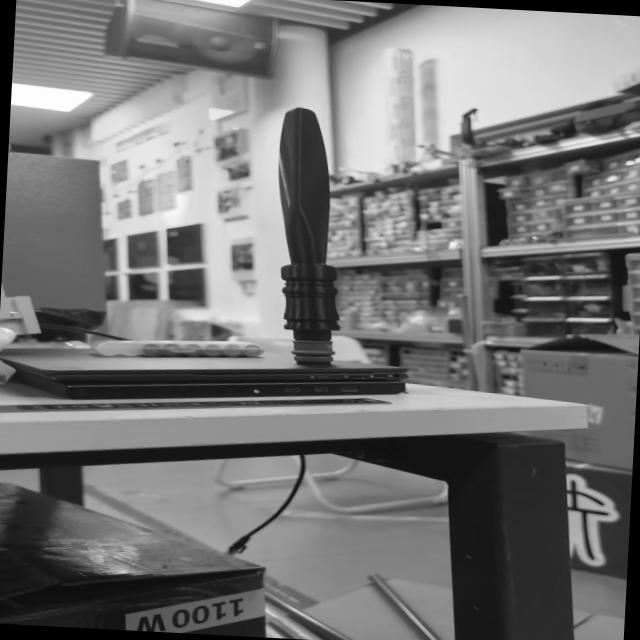base: (288, 338, 336, 365)
